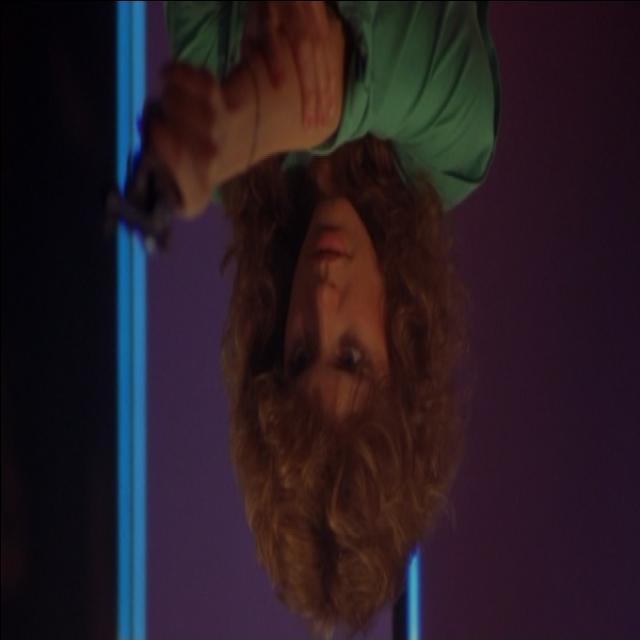weapons: (89, 80, 203, 268)
